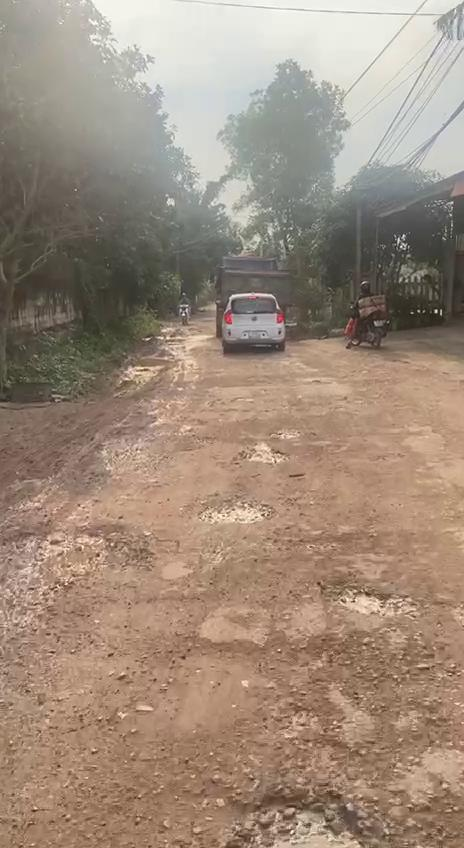pothole: (220, 777, 378, 848), (39, 521, 158, 588), (326, 578, 420, 620), (195, 496, 276, 529), (231, 439, 292, 467)
